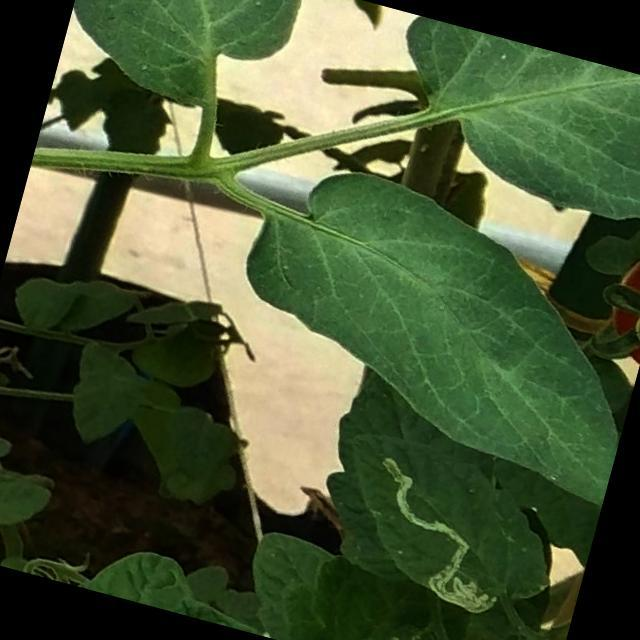Tomato target spot leaf: (312, 417, 578, 635)
